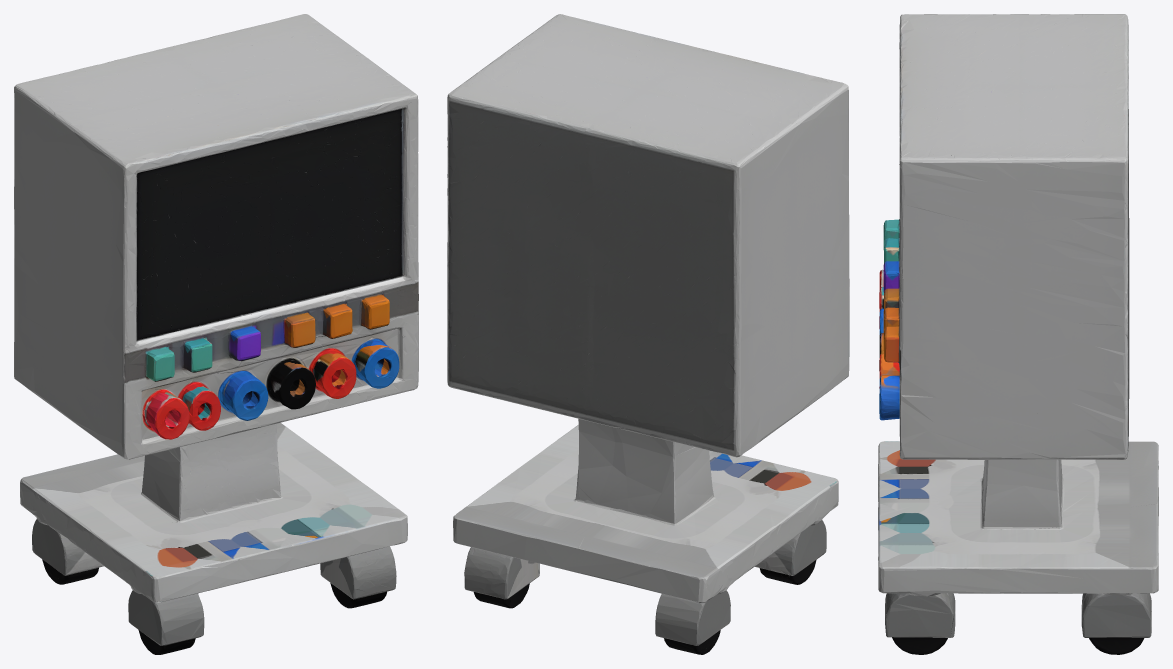
The model's file is ecg-cart.glb.
3 views of the same model, side by side, from view 1: azimuth 30°, elevation 25°; view 2: azimuth 150°, elevation 25°; view 3: azimuth 270°, elevation 25° (orthographic). The views are drawn at different scales.
Visible parts, largest first — view 1: world; view 2: world; view 3: world.
Boxes of the visible parts, x1,y1,x2,y2 form: world: (14, 14, 418, 654); world: (447, 14, 849, 654); world: (878, 14, 1158, 654).
Bounding box in the file's own units: 1.22 × 1.99 × 0.9876.
1 material, 1 textured.
